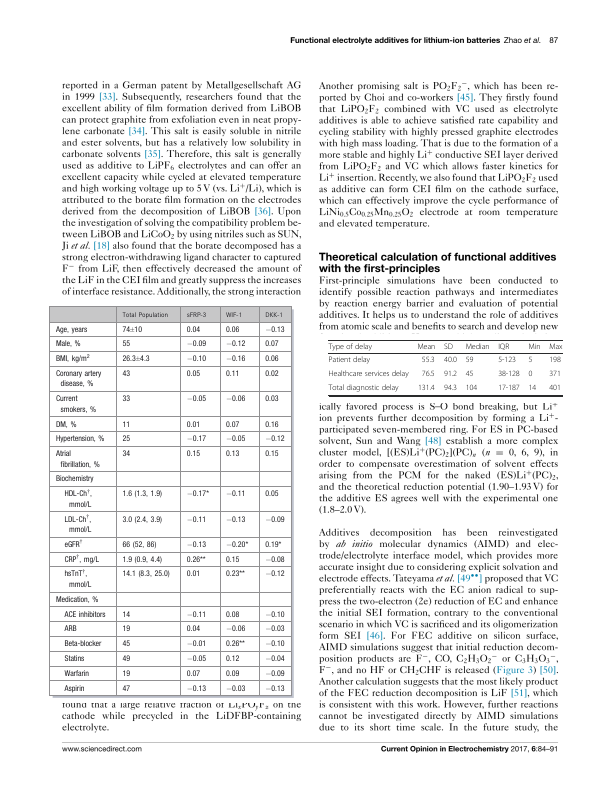bordered: (49, 304, 291, 695)
borderless: (327, 339, 562, 395)
cell: (54, 370, 102, 389), (54, 450, 100, 469), (54, 395, 97, 415), (328, 370, 410, 380), (328, 384, 400, 394), (63, 488, 92, 510), (63, 514, 92, 535), (63, 569, 92, 590), (54, 435, 105, 444), (121, 570, 170, 579), (328, 356, 371, 366), (328, 343, 373, 352), (54, 595, 99, 604), (54, 353, 90, 364), (63, 610, 106, 619), (121, 490, 163, 499), (121, 515, 163, 524), (121, 555, 163, 564), (121, 312, 168, 320), (54, 475, 94, 484), (121, 540, 157, 550), (63, 554, 99, 564), (63, 640, 102, 649), (54, 325, 88, 334), (121, 355, 150, 364), (224, 540, 249, 550), (54, 340, 81, 349), (63, 669, 90, 678), (497, 370, 521, 380), (497, 384, 521, 394), (465, 343, 490, 352), (63, 539, 83, 550), (185, 540, 207, 550), (63, 654, 85, 664), (185, 654, 207, 664), (185, 490, 209, 499), (264, 654, 285, 664), (54, 420, 77, 429), (497, 356, 517, 366), (121, 325, 143, 334), (185, 340, 207, 349), (224, 340, 246, 349), (185, 355, 207, 364), (224, 355, 246, 364), (185, 395, 207, 404), (224, 395, 246, 404), (185, 435, 207, 444), (224, 435, 246, 444), (224, 490, 246, 499), (185, 515, 207, 524), (224, 515, 246, 524), (185, 610, 207, 619), (224, 625, 246, 634), (185, 640, 207, 649), (63, 684, 85, 693), (185, 684, 207, 693), (224, 684, 246, 693), (417, 384, 436, 394), (264, 325, 285, 334), (264, 435, 285, 444), (264, 515, 285, 524), (185, 555, 206, 564), (264, 555, 285, 564), (224, 570, 245, 579), (264, 570, 285, 579), (264, 610, 285, 619), (264, 625, 285, 634), (224, 640, 245, 649), (264, 640, 285, 649), (264, 669, 285, 678), (264, 684, 285, 693), (416, 343, 436, 352), (264, 540, 282, 550), (185, 312, 207, 320), (224, 654, 240, 664), (264, 312, 283, 320), (421, 356, 436, 366), (443, 356, 458, 366), (421, 370, 436, 380), (443, 370, 458, 380), (443, 384, 458, 394), (224, 312, 242, 320), (185, 325, 201, 334), (224, 325, 240, 334), (185, 370, 201, 379), (224, 370, 240, 379), (185, 420, 201, 429), (224, 420, 240, 429), (185, 450, 201, 459), (224, 450, 240, 459), (224, 555, 240, 564), (185, 570, 201, 579), (224, 610, 240, 619), (185, 625, 201, 634), (185, 669, 201, 678), (224, 669, 240, 678), (548, 356, 562, 366), (548, 370, 562, 380), (548, 384, 562, 394), (548, 343, 563, 352), (264, 340, 279, 349), (264, 355, 279, 364), (264, 370, 279, 379), (264, 395, 279, 404), (264, 420, 279, 429), (264, 450, 279, 459), (264, 490, 279, 499), (465, 384, 478, 394), (527, 343, 541, 352), (63, 625, 77, 634), (497, 343, 510, 352), (527, 384, 537, 394), (121, 654, 131, 664), (443, 343, 454, 352), (465, 356, 474, 366), (465, 370, 474, 380), (121, 340, 131, 349), (121, 370, 131, 379), (121, 395, 131, 404), (121, 420, 131, 429), (121, 435, 131, 444), (121, 450, 131, 459), (121, 610, 131, 619), (121, 625, 131, 634), (121, 640, 131, 649), (121, 669, 131, 678), (121, 684, 131, 693), (527, 356, 533, 366), (527, 370, 533, 380)
